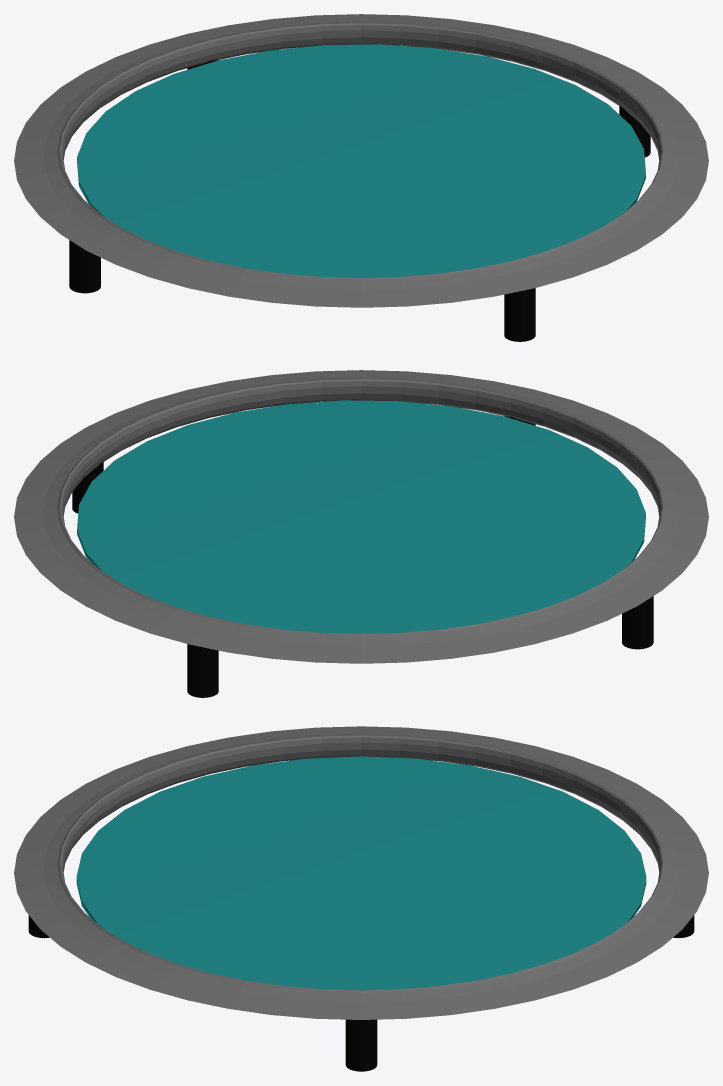
The model's file is Trampolin.fbx.
The picture shows the model from 3 angles, top to bottom: view 1: azimuth 30°, elevation 25°; view 2: azimuth 150°, elevation 25°; view 3: azimuth 270°, elevation 25°; orthographic projection.
Parts seen in each view (by area): view 1: Cylinder, Torus, Cylinder.001, Cylinder.004, Cylinder.003; view 2: Cylinder, Torus, Cylinder.002, Cylinder.004, Cylinder.003; view 3: Cylinder, Torus, Cylinder.003.
Boxes of the visible parts, <box> form: Cylinder: <box>77,44,645,277</box>; Torus: <box>14,14,708,307</box>; Cylinder.001: <box>504,288,535,341</box>; Cylinder.004: <box>69,240,100,293</box>; Cylinder.003: <box>619,105,650,157</box>; Cylinder: <box>77,400,645,633</box>; Torus: <box>14,370,708,663</box>; Cylinder.002: <box>187,644,218,697</box>; Cylinder.004: <box>622,596,653,649</box>; Cylinder.003: <box>72,461,103,513</box>; Cylinder: <box>76,756,646,990</box>; Torus: <box>14,726,708,1019</box>; Cylinder.003: <box>345,1019,377,1071</box>.
Size of the model in its own units: 5.82 by 0.6345 by 5.82.
